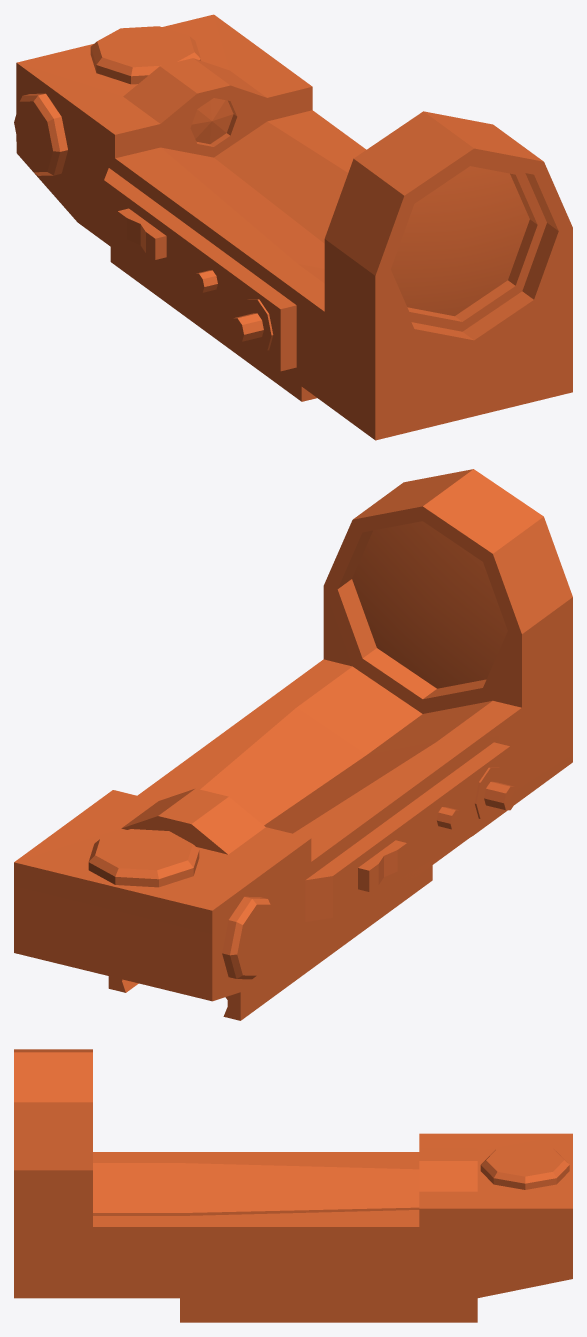
Rendered from acc_Sight_1.fbx.
The picture shows the model from 3 angles, top to bottom: view 1: azimuth 30°, elevation 25°; view 2: azimuth 150°, elevation 25°; view 3: azimuth 270°, elevation 25°; orthographic projection. The views are drawn at different scales.
Parts seen in each view (by area): view 1: acc_sight_1; view 2: acc_sight_1; view 3: acc_sight_1.
Part boxes in pixels (x1=…): acc_sight_1: x1=14, y1=14, x2=572, y2=440; acc_sight_1: x1=14, y1=469, x2=572, y2=1020; acc_sight_1: x1=14, y1=1049, x2=572, y2=1322.
Bounding box in the file's own units: 21.32 × 27.31 × 56.32.
